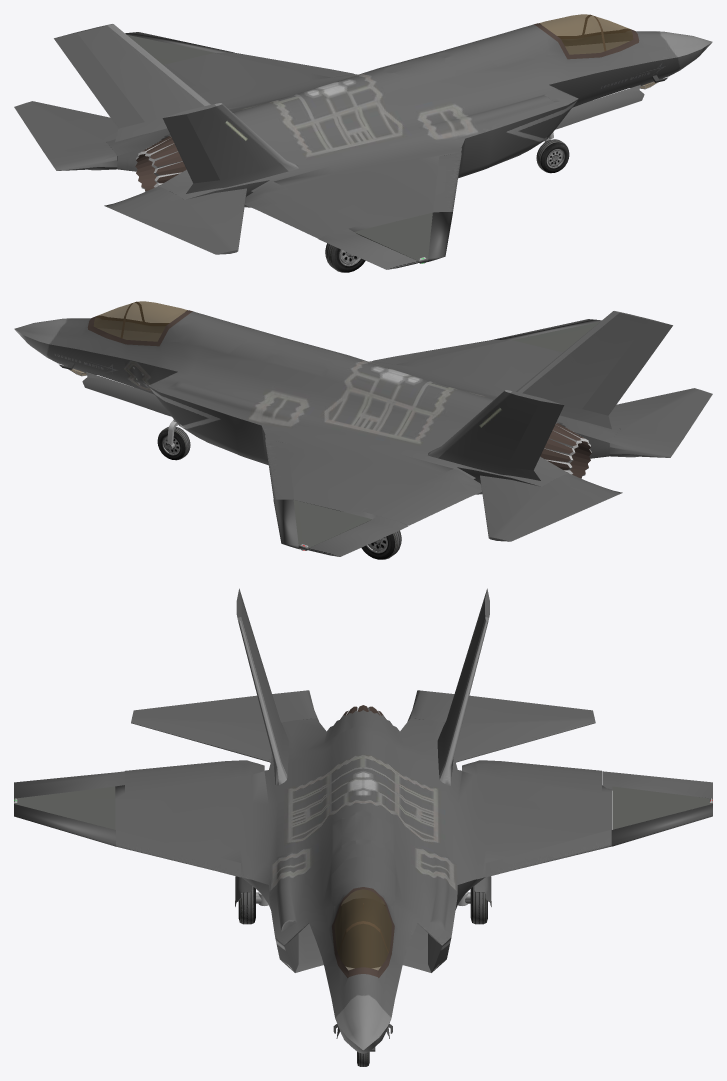
3 renders of one model, top to bottom at view 1: azimuth 30°, elevation 25°; view 2: azimuth 150°, elevation 25°; view 3: azimuth 270°, elevation 25°, orthographic. The views are drawn at different scales.
Visible parts, largest first — view 1: fuselage, vertStab, rightElevator, leftElevator, rightFlaperon, canopy, leftRudder, fuselage.001, topLiftDoor, rightRudder, rightFlaperon.001, rightNoseDoor (+8 smaller); view 2: fuselage, vertStab, leftElevator, rightElevator, leftFlaperon, canopy, rightRudder, fuselage.002, topLiftDoor, leftRudder, rightFlaperon.002, leftNoseDoor (+8 smaller); view 3: fuselage, leftElevator, rightElevator, vertStab, canopy, rightFlaperon, leftFlaperon, fuselage.001, fuselage.002, topLiftDoor, leftSlat, rightSlat (+6 smaller).
Boxes of the visible parts, x1,y1,x2,y2 form: fuselage: [106, 24, 712, 231]; vertStab: [76, 24, 298, 193]; rightElevator: [104, 186, 246, 254]; leftElevator: [14, 101, 118, 170]; rightFlaperon: [245, 181, 363, 238]; canopy: [534, 14, 639, 59]; leftRudder: [54, 32, 144, 128]; fuselage.001: [354, 212, 432, 262]; topLiftDoor: [467, 25, 549, 67]; rightRudder: [162, 111, 219, 183]; rightFlaperon.001: [318, 229, 417, 269]; rightNoseDoor: [555, 85, 644, 129]; fuselage: [14, 311, 620, 519]; vertStab: [428, 311, 650, 480]; leftElevator: [480, 473, 622, 541]; rightElevator: [608, 388, 712, 457]; leftFlaperon: [363, 468, 481, 525]; canopy: [87, 301, 192, 346]; rightRudder: [582, 319, 672, 415]; fuselage.002: [293, 500, 371, 550]; topLiftDoor: [177, 312, 259, 354]; leftRudder: [507, 398, 564, 470]; rightFlaperon.002: [308, 516, 408, 556]; leftNoseDoor: [82, 372, 171, 416]; fuselage: [115, 710, 611, 1053]; leftElevator: [408, 690, 595, 762]; rightElevator: [131, 690, 318, 762]; vertStab: [236, 600, 489, 785]; canopy: [332, 887, 394, 977]; rightFlaperon: [125, 760, 264, 793]; leftFlaperon: [462, 760, 601, 792]; fuselage.001: [14, 786, 115, 829]; fuselage.002: [612, 786, 712, 829]; topLiftDoor: [330, 857, 396, 905]; leftSlat: [485, 830, 611, 877]; rightSlat: [116, 830, 240, 877].
Bounding box in the file's own units: 18.48 × 5.66 × 15.54.
9 materials, 2 textured.
